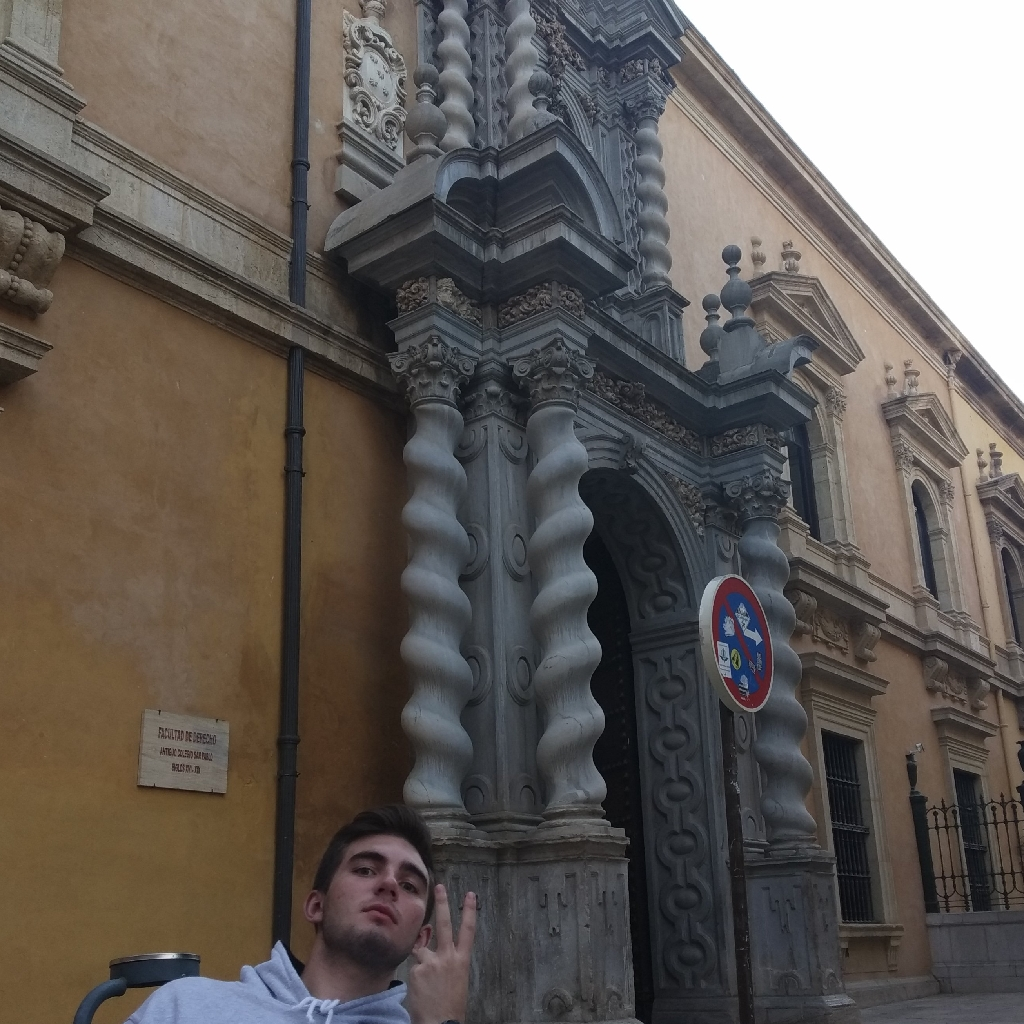columna-salomonica: (519, 400, 614, 817), (392, 398, 478, 807), (735, 515, 826, 846), (631, 122, 673, 287), (436, 1, 478, 151), (498, 1, 545, 128)
fronton: (762, 267, 866, 369), (900, 391, 970, 460)
